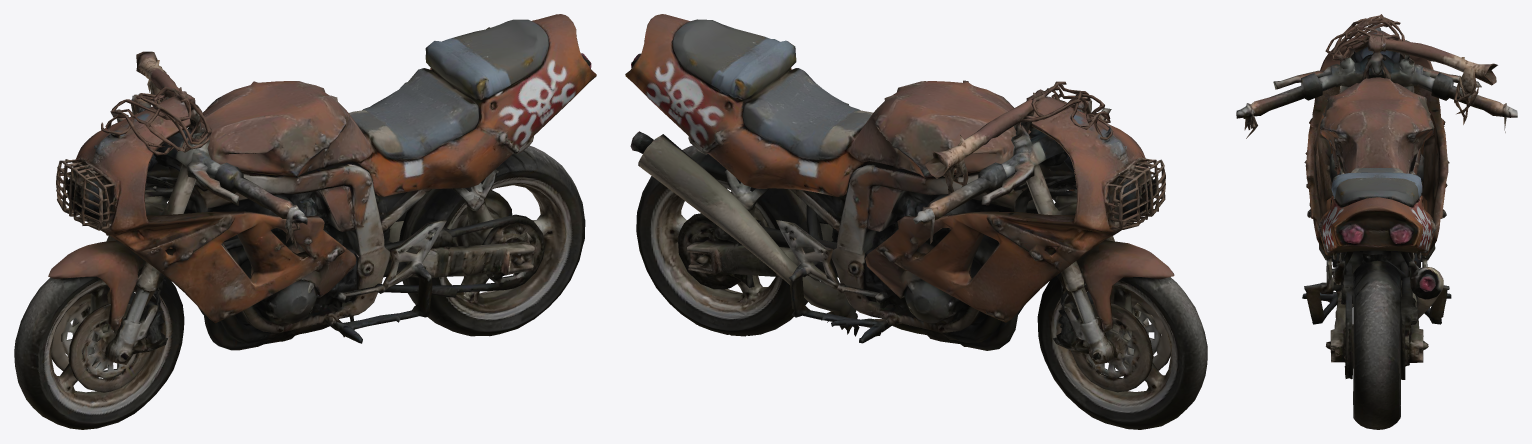
The model's file is rusted_motorcycle_3d_model_1.fbx.
3 views of the same model, side by side, from view 1: azimuth 30°, elevation 25°; view 2: azimuth 150°, elevation 25°; view 3: azimuth 270°, elevation 25° (orthographic). The views are drawn at different scales.
Visible parts, largest first — view 1: tripo_node_b3821f9c; view 2: tripo_node_b3821f9c; view 3: tripo_node_b3821f9c.
Boxes of the visible parts, box(x1,y1,x2,y2) form: tripo_node_b3821f9c: box(14, 14, 596, 429); tripo_node_b3821f9c: box(625, 14, 1207, 429); tripo_node_b3821f9c: box(1236, 14, 1517, 429).
Size of the model in its own units: 1 by 0.5335 by 0.521.
